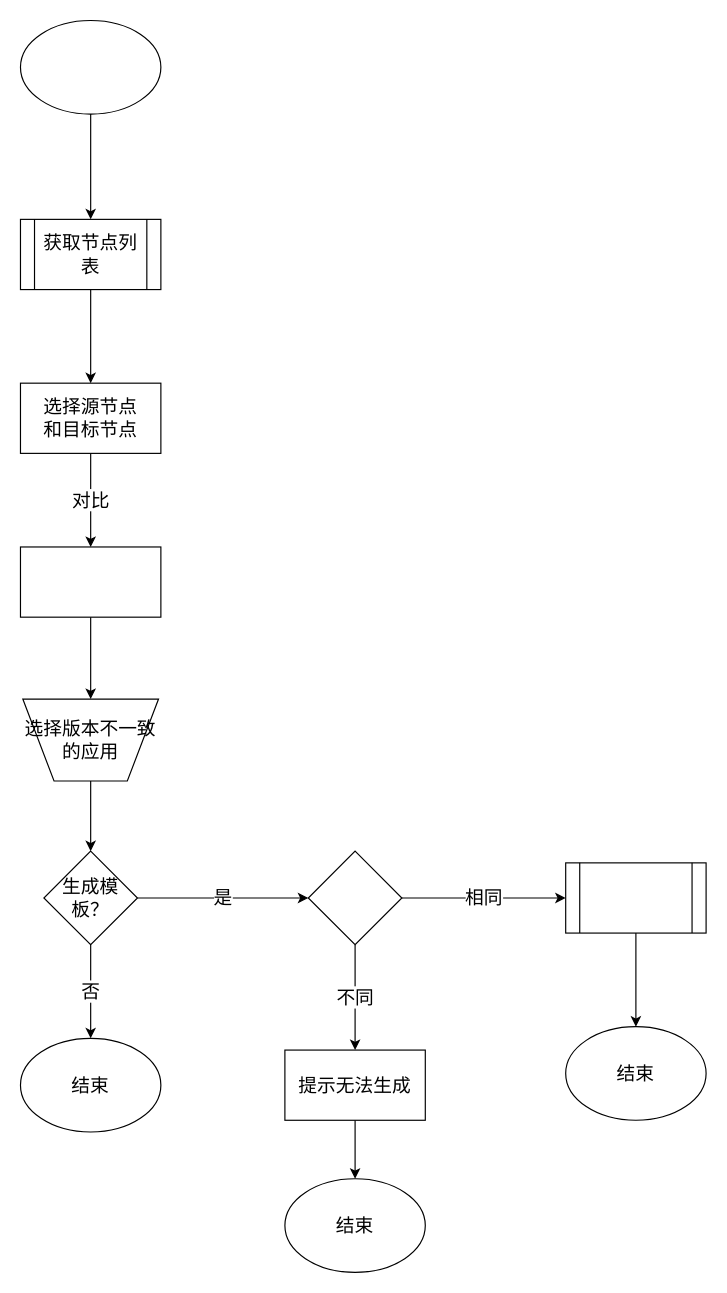
Some shapes in this 727 by 1293 pixel diagram are drawn without their labels. The shapes that lost their labels are listed below. From the top down, each one's centre as x and y in pixels, then its label:
At pixel 90 66: "开始".
At pixel 90 581: "获得差异列表".
At pixel 354 897: "节点类型？".
At pixel 635 897: "生成模板".
